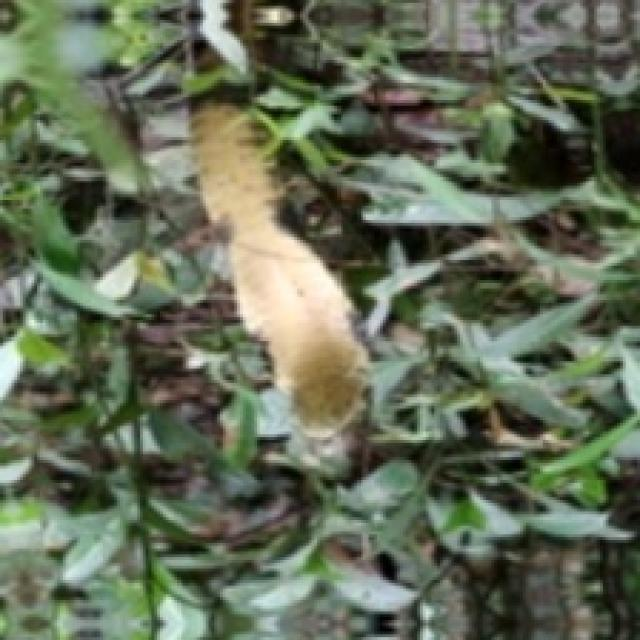king cobra: (191, 97, 366, 469), (191, 103, 366, 434)
